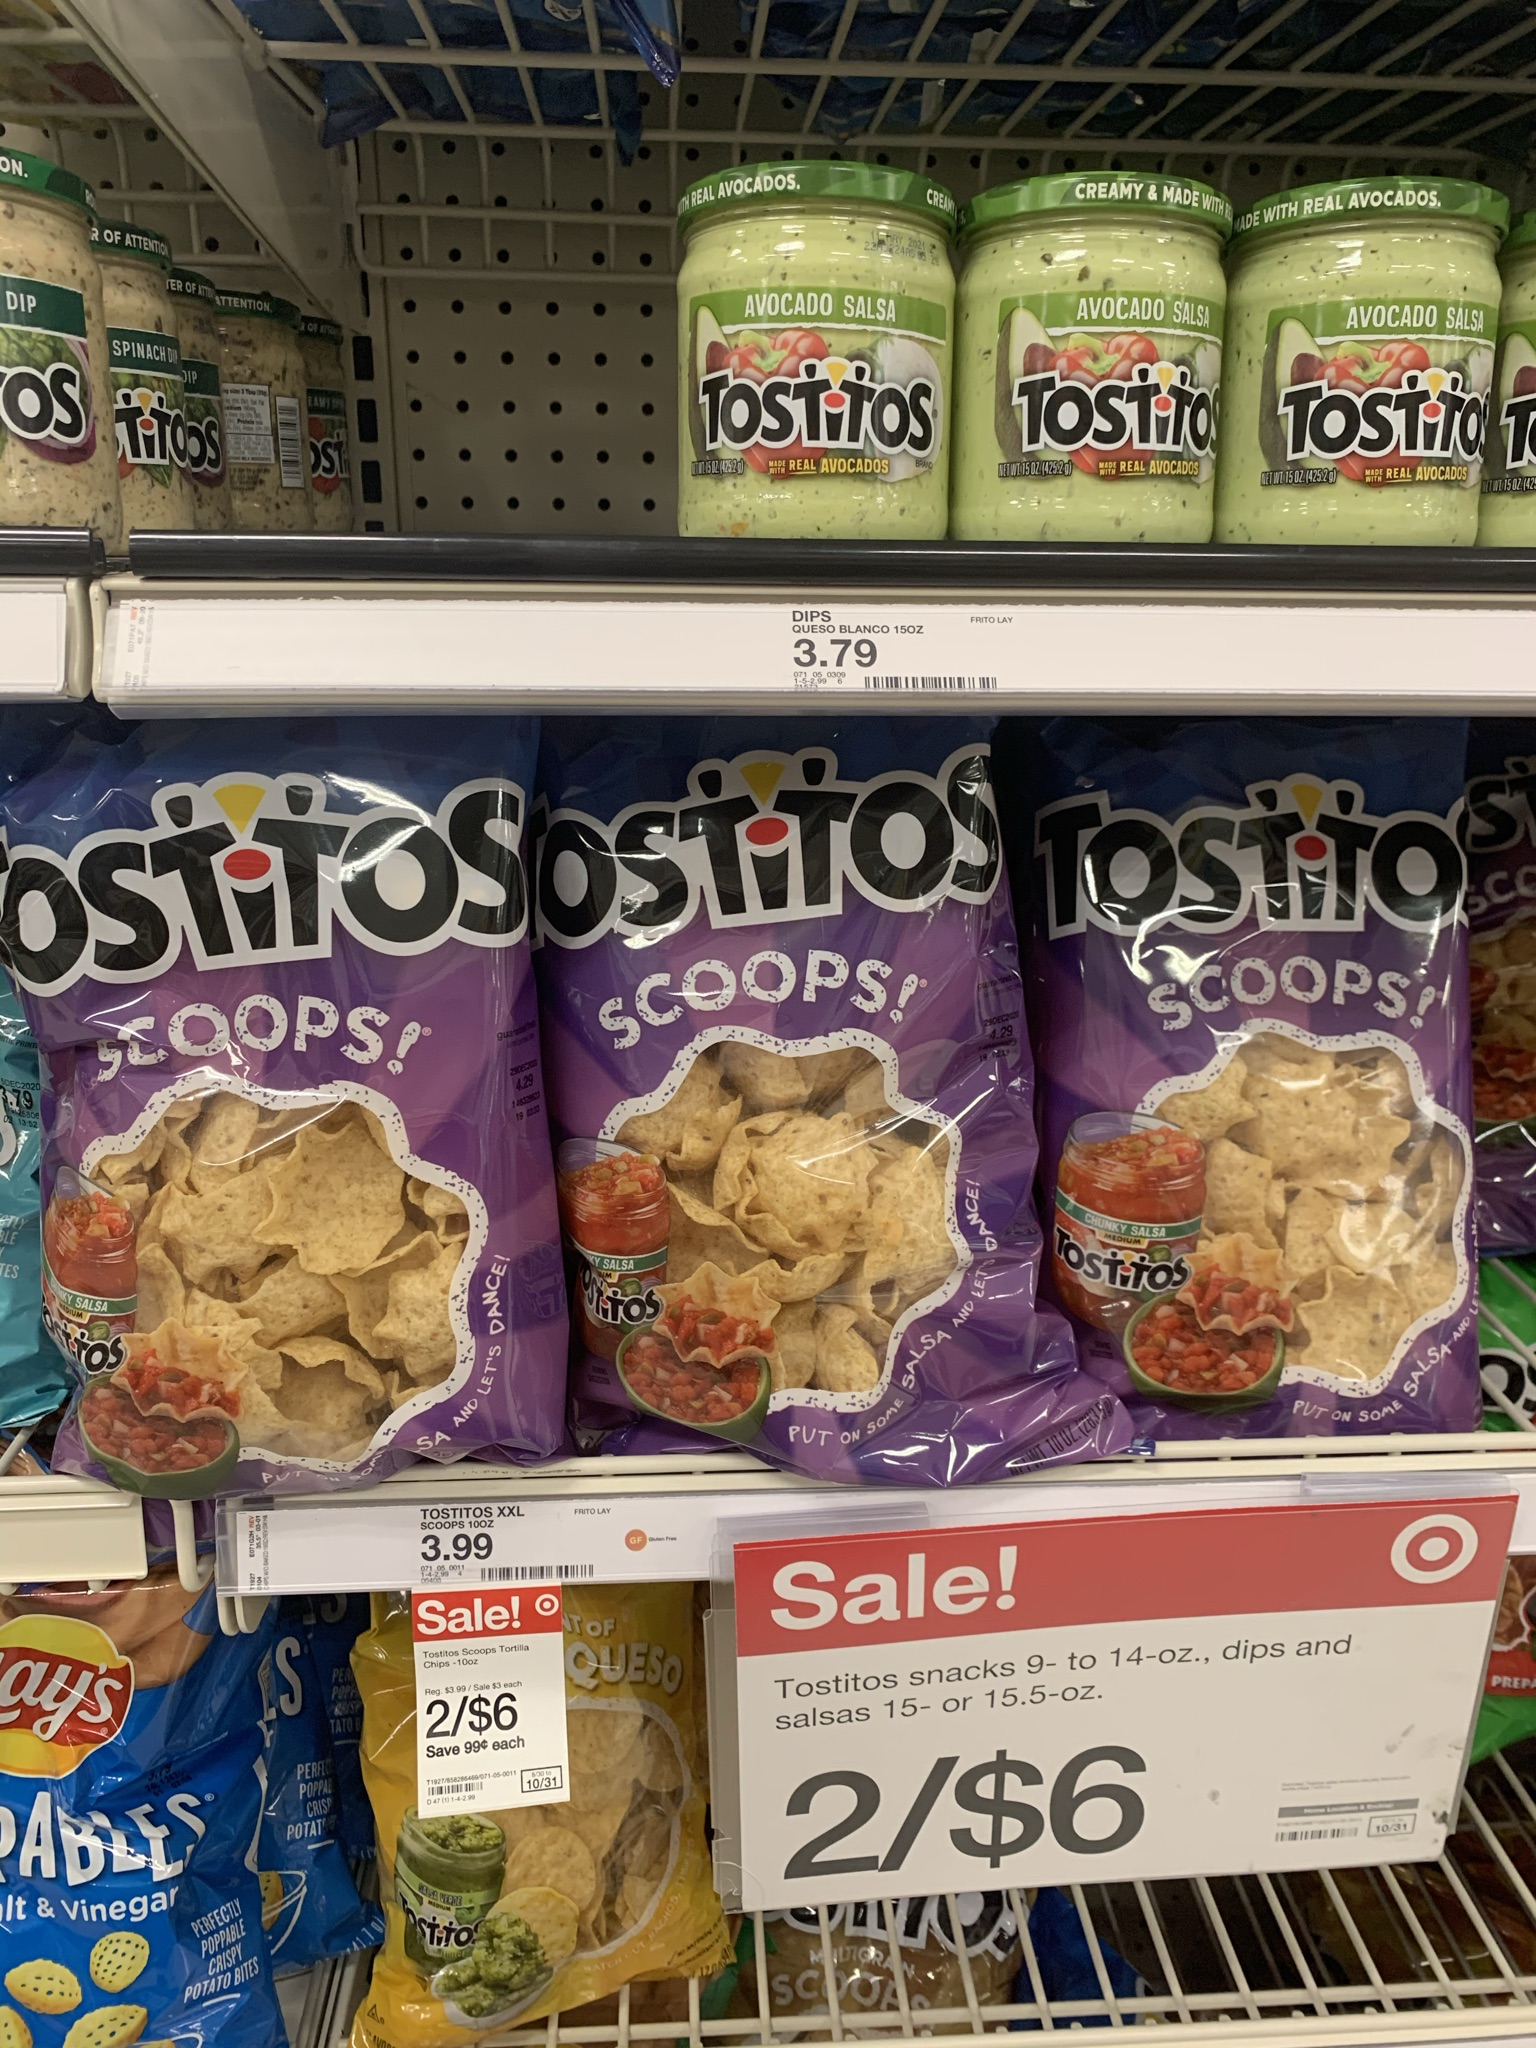lays: (2, 1637, 282, 2038)
tostitos chips: (547, 771, 1097, 1434), (19, 801, 566, 1447), (1063, 766, 1484, 1434), (361, 1637, 733, 1988)
